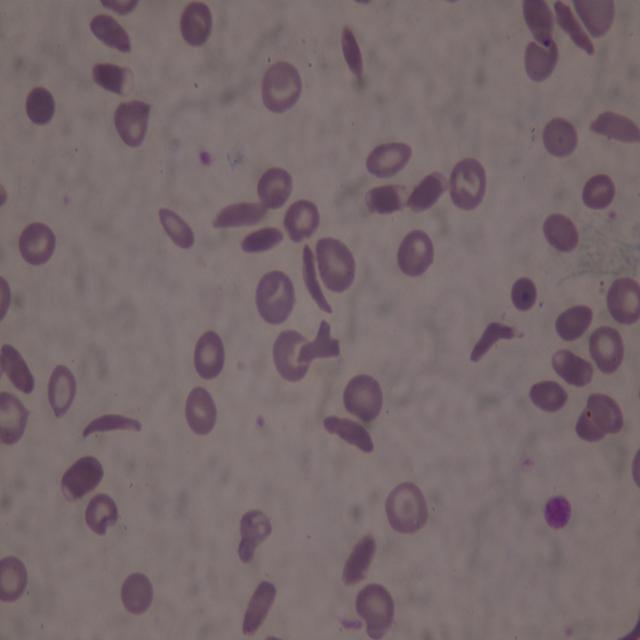Crystal: (320, 414, 376, 454), (241, 578, 278, 636), (341, 534, 376, 589), (0, 342, 36, 393), (89, 14, 133, 55), (156, 206, 195, 250), (338, 25, 368, 82), (294, 336, 342, 367), (238, 224, 286, 254), (315, 319, 332, 357)
Normal: (343, 374, 383, 422), (588, 324, 624, 375), (192, 330, 226, 380), (0, 556, 27, 605)
Others: (353, 581, 397, 637), (260, 59, 304, 113), (58, 451, 105, 501), (314, 236, 356, 291), (254, 269, 296, 324), (448, 156, 488, 212), (113, 96, 152, 149), (274, 328, 312, 382), (235, 509, 271, 564), (405, 168, 449, 213), (364, 140, 414, 179), (540, 114, 580, 158), (18, 222, 56, 268), (552, 348, 595, 388), (0, 389, 31, 444), (362, 180, 408, 217), (605, 278, 640, 326), (586, 391, 625, 434), (46, 363, 77, 417), (397, 229, 435, 273), (256, 165, 293, 210), (522, 1, 555, 51), (541, 212, 580, 254), (89, 60, 134, 96), (84, 491, 120, 535), (524, 38, 560, 82), (186, 384, 217, 435), (283, 198, 319, 241), (574, 0, 614, 38), (554, 303, 592, 343), (181, 2, 212, 49), (120, 572, 154, 614), (24, 83, 56, 127), (529, 378, 570, 410), (582, 173, 617, 209), (575, 404, 608, 442), (542, 494, 572, 532), (510, 276, 538, 314), (0, 274, 13, 321), (101, 1, 137, 15), (630, 446, 639, 492), (0, 183, 10, 206)
Sickle: (469, 317, 525, 364), (554, 0, 598, 57), (301, 245, 334, 315), (588, 109, 638, 148), (207, 200, 272, 229), (80, 409, 142, 439)
Target: (384, 480, 425, 534)
